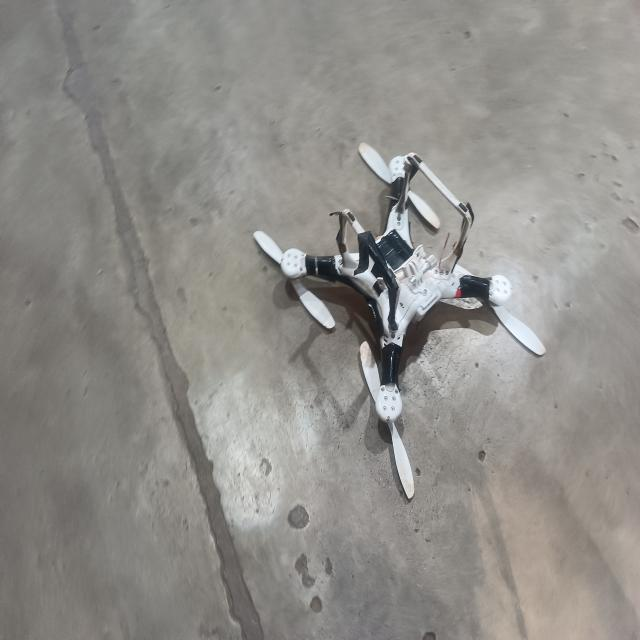drone: (237, 111, 563, 517)
